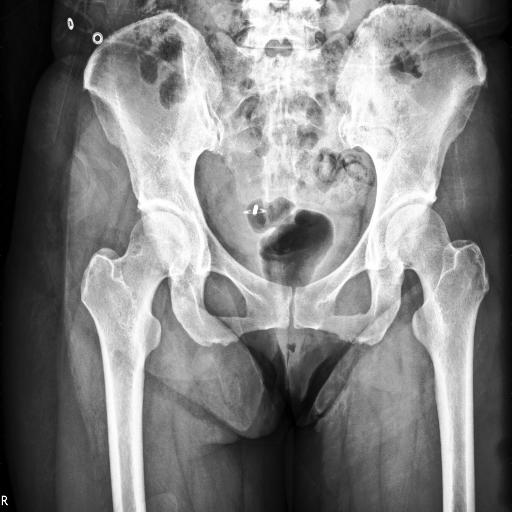normal: (80, 212, 192, 455), (385, 204, 490, 451)
